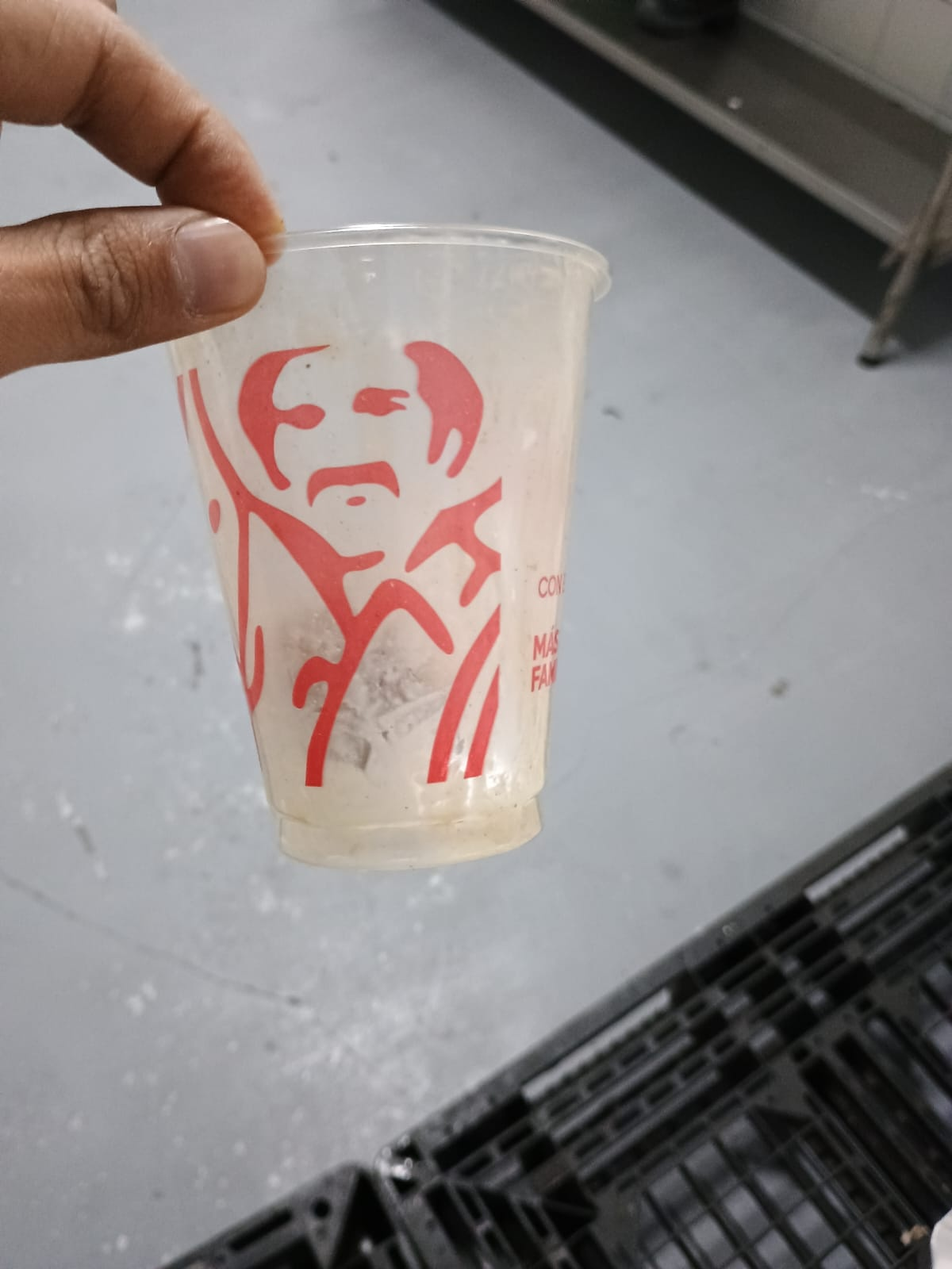Plastico: (163, 216, 616, 869)
